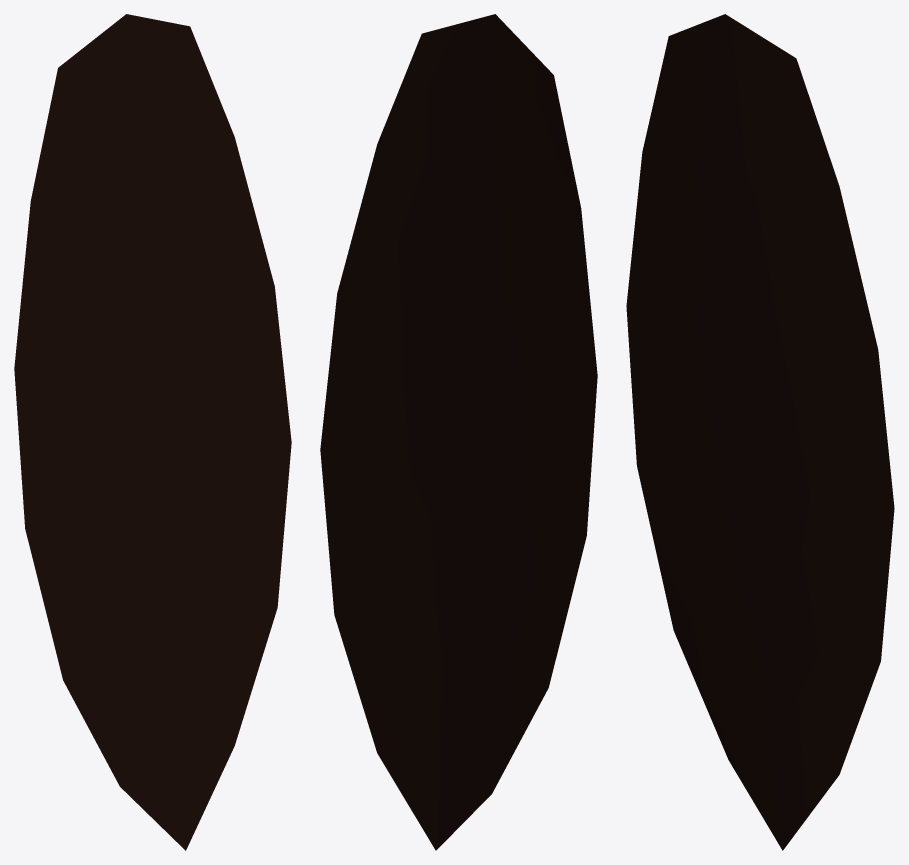
File: hen_feather_flight_secondary_006.obj
The picture shows the model from 3 angles, left to right: view 1: azimuth 30°, elevation 25°; view 2: azimuth 150°, elevation 25°; view 3: azimuth 330°, elevation 25°; orthographic projection. The views are drawn at different scales.
Visible parts, largest first — view 1: feather_flight_secondary_006; view 2: feather_flight_secondary_006; view 3: feather_flight_secondary_006.
Part boxes in pixels (bbox=[...]): feather_flight_secondary_006: bbox=[14, 14, 291, 850]; feather_flight_secondary_006: bbox=[320, 14, 597, 850]; feather_flight_secondary_006: bbox=[626, 14, 894, 850].
Size of the model in its own units: 0.017 by 0.0499 by 0.000524.
